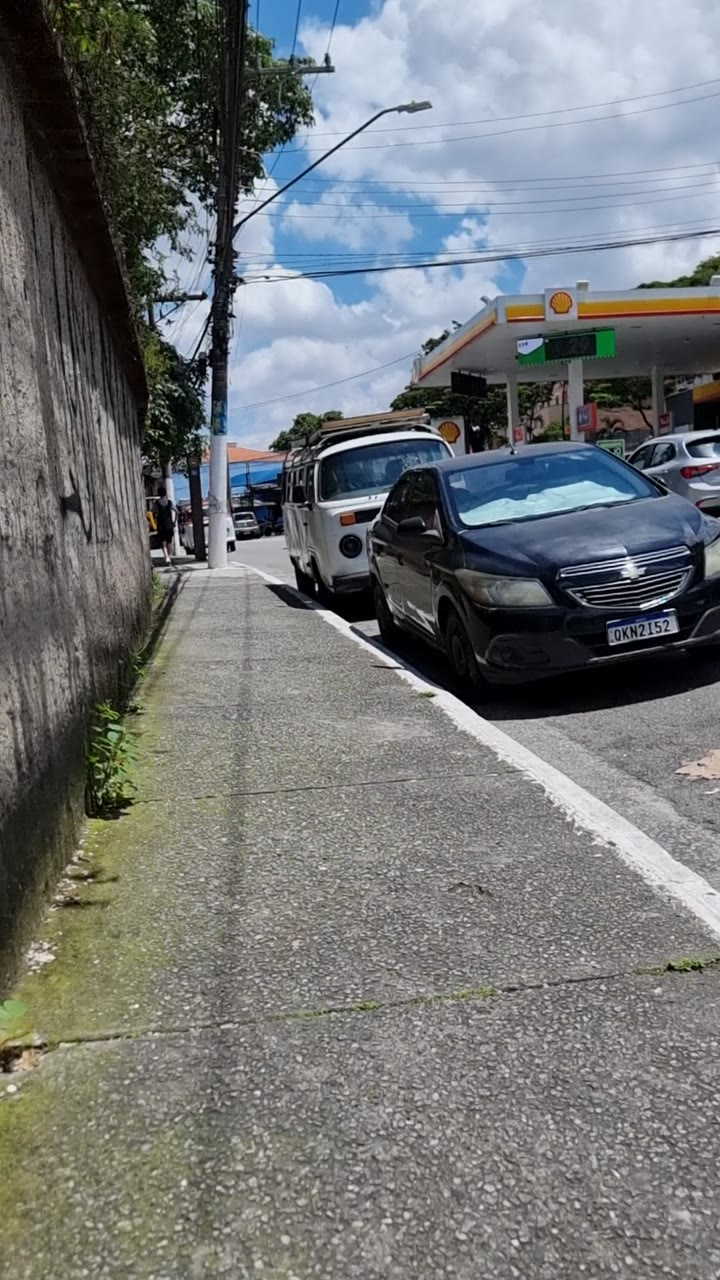obstaculo: (209, 0, 245, 550)
